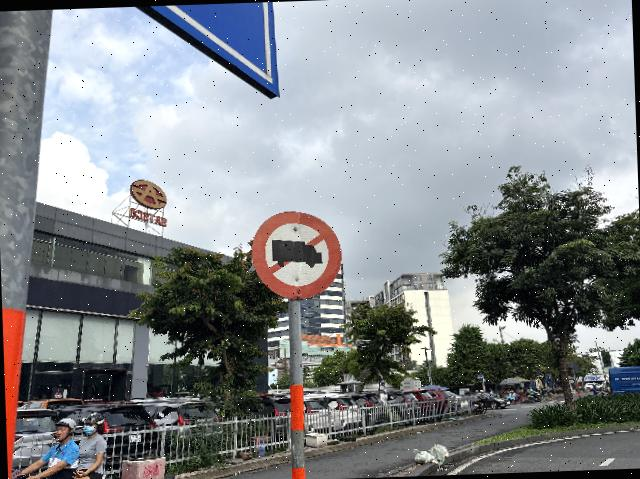cam-xe-tai: (250, 210, 343, 302)
